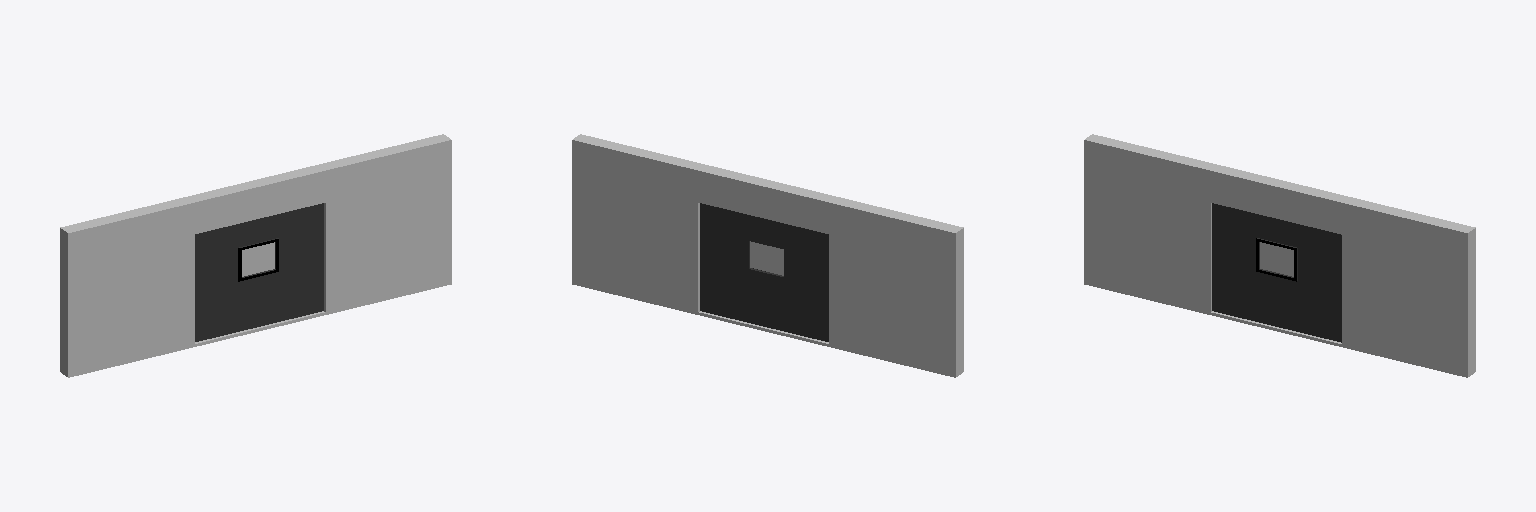
Rendered from walldoor.obj.
3 renders of one model, left to right at view 1: azimuth 30°, elevation 25°; view 2: azimuth 150°, elevation 25°; view 3: azimuth 330°, elevation 25°, orthographic.
Visible parts, largest first — view 1: Plane.002, Plane, Plane.001; view 2: Plane.002, Plane, Plane.001; view 3: Plane.002, Plane, Plane.001.
Boxes of the visible parts, x1=… form: Plane.002: x1=60, y1=134, x2=451, y2=377; Plane: x1=195, y1=203, x2=323, y2=341; Plane.001: x1=242, y1=242, x2=274, y2=276; Plane.002: x1=572, y1=134, x2=963, y2=377; Plane: x1=700, y1=203, x2=828, y2=341; Plane.001: x1=750, y1=241, x2=783, y2=275; Plane.002: x1=1084, y1=134, x2=1475, y2=377; Plane: x1=1212, y1=203, x2=1341, y2=342; Plane.001: x1=1260, y1=242, x2=1293, y2=276.
Bounding box in the file's own units: 11.11 × 4 × 0.402.